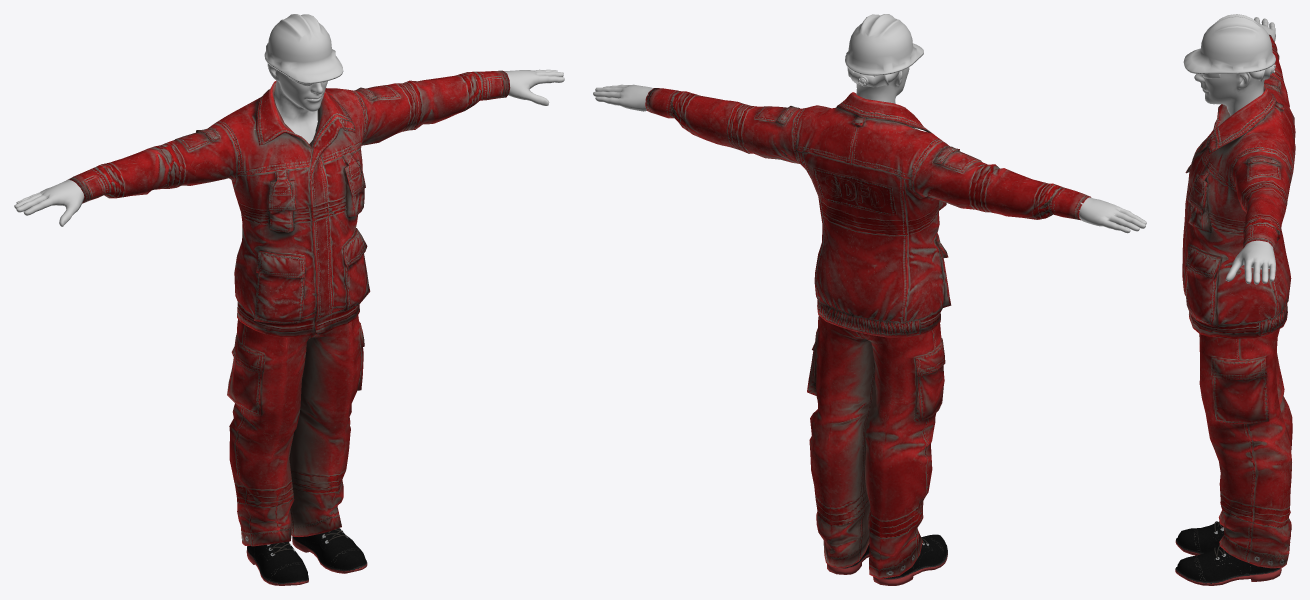
File: Worker.obj
The picture shows the model from 3 angles, left to right: view 1: azimuth 30°, elevation 25°; view 2: azimuth 150°, elevation 25°; view 3: azimuth 270°, elevation 25°; orthographic projection.
Parts seen in each view (by area): view 1: Tops, Bottoms, Body, Shoes, Hats; view 2: Tops, Bottoms, Hats, Body, Shoes; view 3: Tops, Bottoms, Hats, Shoes, Body.
Part boxes in pixels (x1,y1,x2,y2): Tops: [68, 70, 510, 337]; Bottoms: [227, 315, 364, 546]; Body: [14, 64, 564, 226]; Shoes: [246, 528, 367, 585]; Hats: [264, 14, 343, 83]; Tops: [645, 88, 1091, 337]; Bottoms: [807, 315, 945, 579]; Hats: [845, 14, 923, 87]; Body: [593, 67, 1146, 233]; Shoes: [827, 534, 947, 585]; Tops: [1182, 34, 1295, 338]; Bottoms: [1199, 329, 1292, 568]; Hats: [1183, 14, 1275, 81]; Shoes: [1175, 521, 1281, 585]; Body: [1194, 17, 1275, 284].
Bounding box in the file's own units: 194 × 185 × 36.96.
